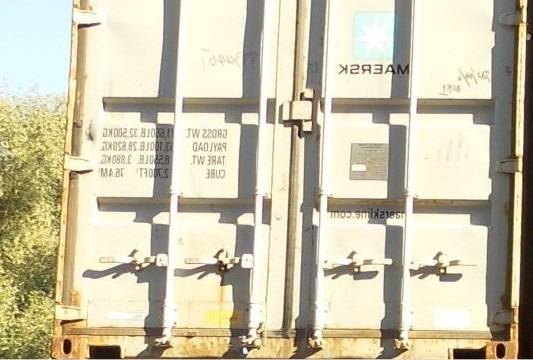container_door: (51, 3, 526, 359)
